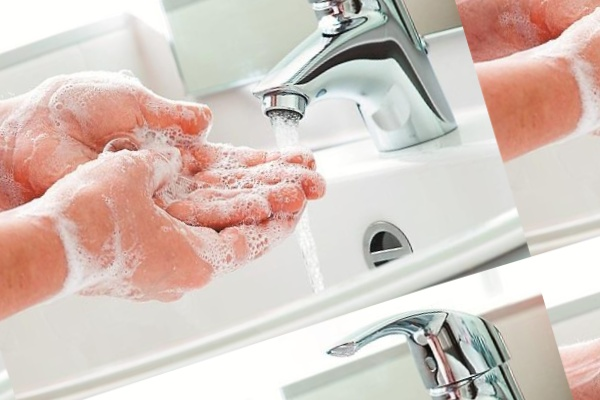washing hand: (0, 0, 482, 372)
